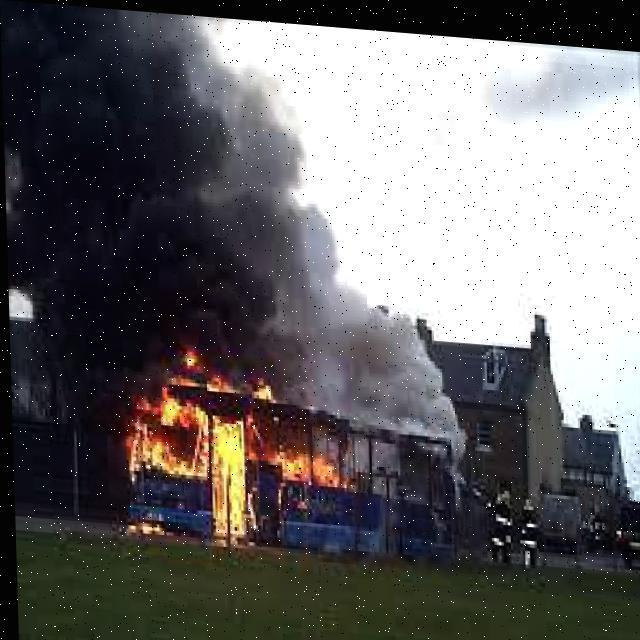Fire: (112, 330, 266, 553), (270, 385, 358, 504)
